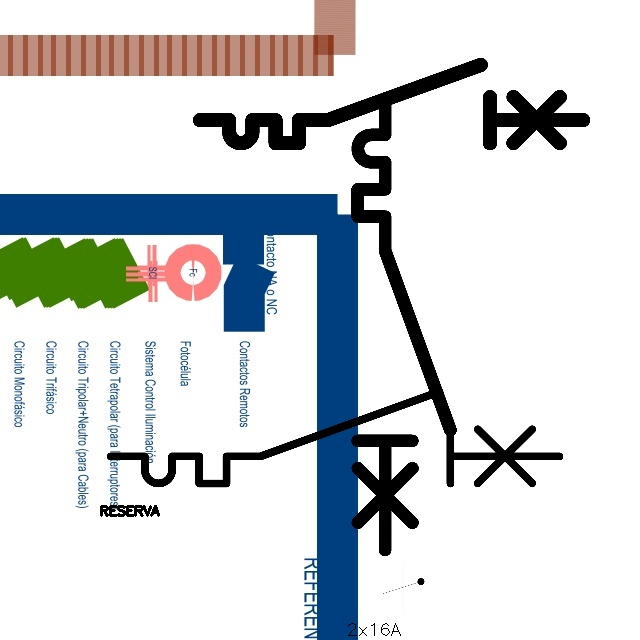interruptor_termomagnetico: (346, 89, 461, 561), (99, 380, 570, 495), (190, 55, 593, 153)
